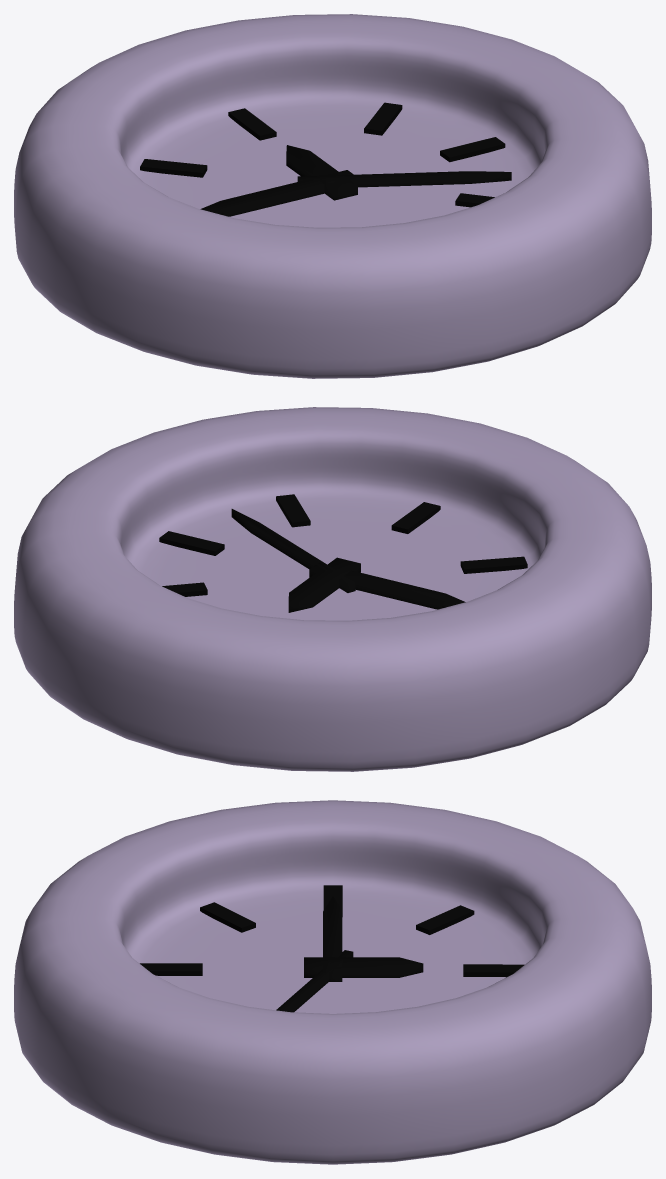
File: Clock.glb
3 views of the same model, one above another, from view 1: azimuth 30°, elevation 25°; view 2: azimuth 150°, elevation 25°; view 3: azimuth 270°, elevation 25° (orthographic).
Parts seen in each view (by area): view 1: Clock, Cube.008, Cube.001, Cube.004, Cube.002, Cube.003; view 2: Clock, Cube.008, Cube.007, Cube.004, Cube.006, Cube.005; view 3: Clock, Cube.008, Cube.001, Cube.007, Cube.006, Cube.002.
Boxes of the visible parts, x1,y1,x2,y2 form: Clock: [14, 14, 651, 378]; Cube.008: [200, 145, 511, 216]; Cube.001: [140, 159, 207, 177]; Cube.004: [440, 137, 505, 162]; Cube.002: [228, 108, 276, 140]; Cube.003: [364, 102, 402, 135]; Clock: [14, 407, 651, 771]; Cube.008: [231, 509, 465, 612]; Cube.007: [460, 556, 527, 573]; Cube.004: [159, 531, 224, 555]; Cube.006: [391, 502, 440, 533]; Cube.005: [276, 494, 310, 527]; Clock: [14, 800, 651, 1164]; Cube.008: [276, 896, 423, 1012]; Cube.001: [416, 905, 474, 934]; Cube.007: [200, 902, 255, 932]; Cube.006: [140, 963, 202, 975]; Cube.002: [463, 964, 524, 977].
Size of the model in its own units: 0.5414 by 0.11 by 0.5414.
